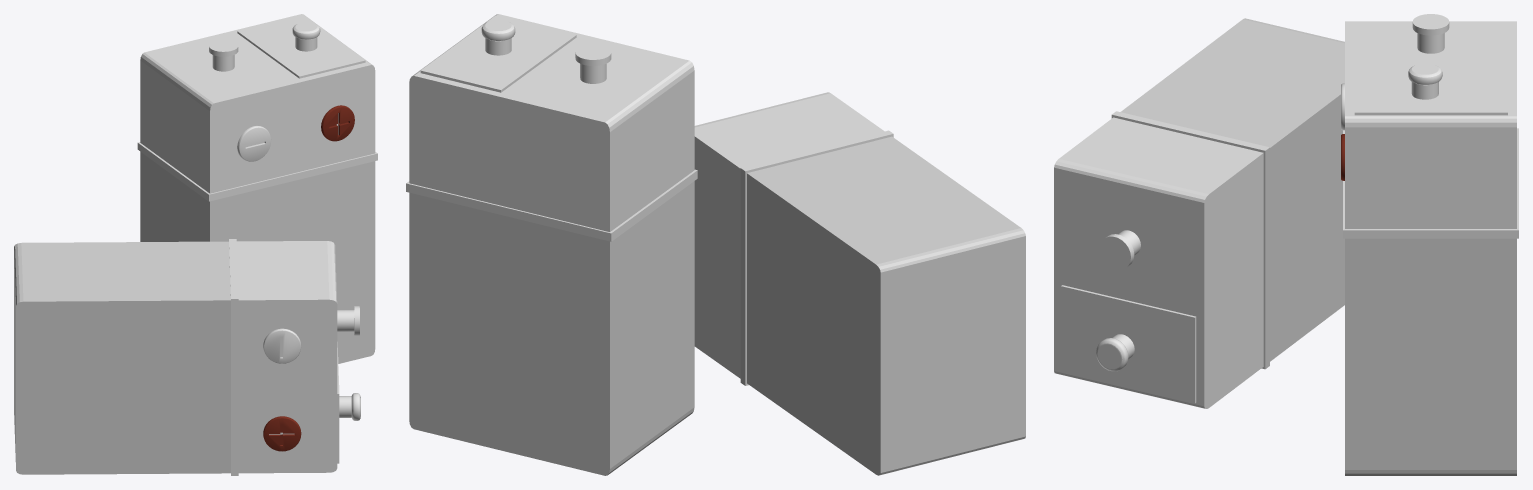
File: батарейки с текстурой .fbx
3 views of the same model, side by side, from view 1: azimuth 30°, elevation 25°; view 2: azimuth 150°, elevation 25°; view 3: azimuth 270°, elevation 25° (orthographic). The views are drawn at different scales.
Parts seen in each view (by area): view 1: Cylinder.002, Cylinder.001; view 2: Cylinder.001, Cylinder.002; view 3: Cylinder.002, Cylinder.001.
Part boxes in pixels (x1,y1,x2,y2): Cylinder.002: [14, 239, 360, 475]; Cylinder.001: [137, 14, 377, 363]; Cylinder.001: [406, 14, 697, 475]; Cylinder.002: [694, 92, 1025, 475]; Cylinder.002: [1054, 18, 1344, 408]; Cylinder.001: [1341, 14, 1518, 475].
Size of the model in its own units: 664 by 496 by 540.
